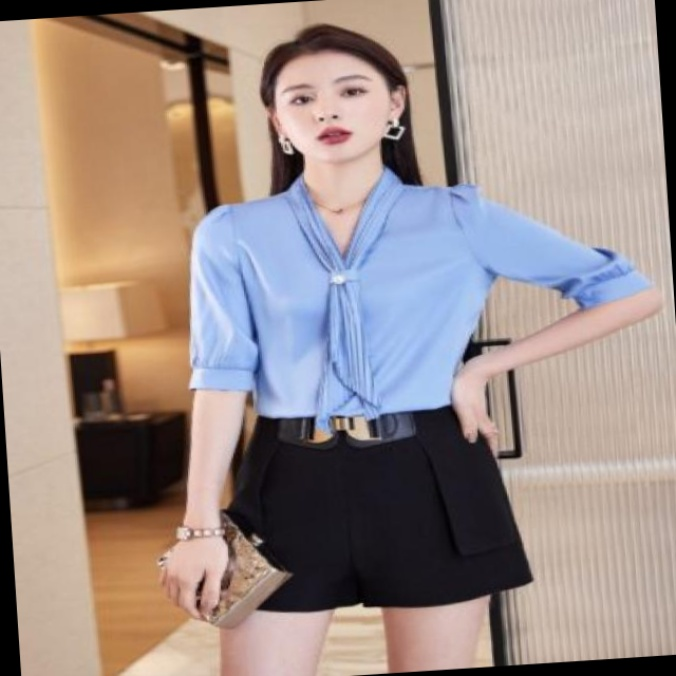Shorts: (200, 395, 543, 676)
